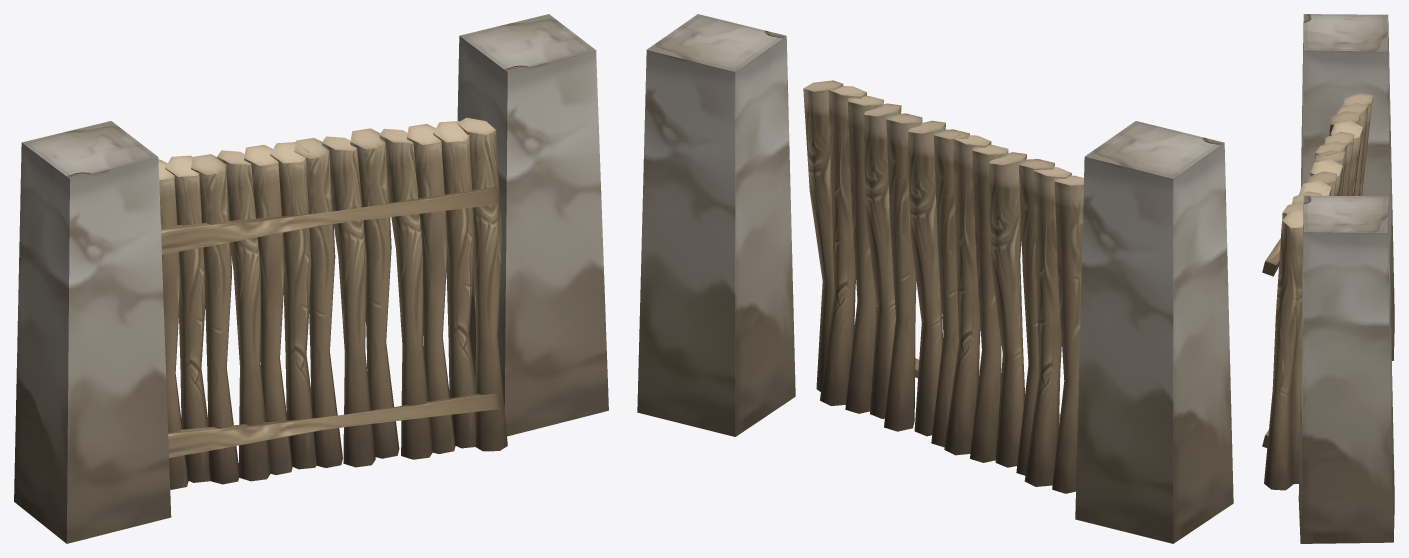
Rendered from Egypt_Village_Props_19.FBX.
3 renders of one model, left to right at view 1: azimuth 30°, elevation 25°; view 2: azimuth 150°, elevation 25°; view 3: azimuth 270°, elevation 25°, orthographic. The views are drawn at different scales.
Visible parts, largest first — view 1: Egypt_Village_Props_19; view 2: Egypt_Village_Props_19; view 3: Egypt_Village_Props_19.
Boxes of the visible parts, left/top/right/bottom form: Egypt_Village_Props_19: left=14, top=14, right=608, bottom=543; Egypt_Village_Props_19: left=637, top=14, right=1233, bottom=543; Egypt_Village_Props_19: left=1262, top=14, right=1394, bottom=543.
Bounding box in the file's own units: 450 × 286 × 112.
